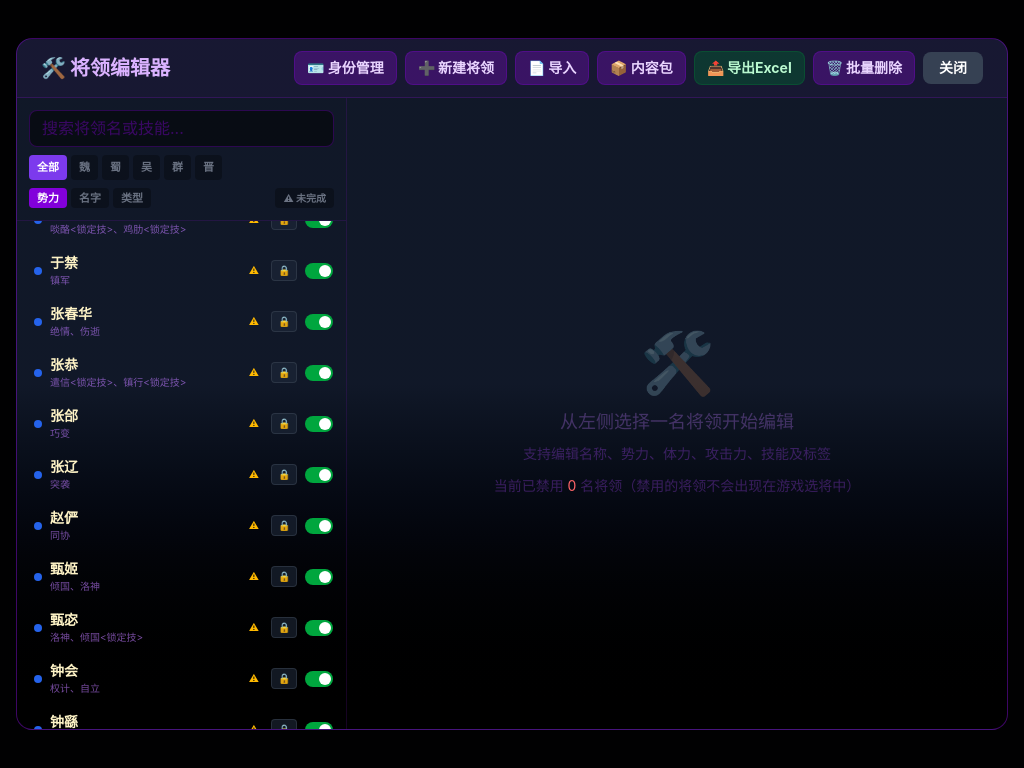
Test case: 两段式流程：① 将领身份 → 确认 → ② 技能编辑 › 点「确认将领」只换屏、一个字都不写库
(page scrolled)
Click the button "张辽 突袭 ⚠" at (146, 475), box [26,451,267,498]
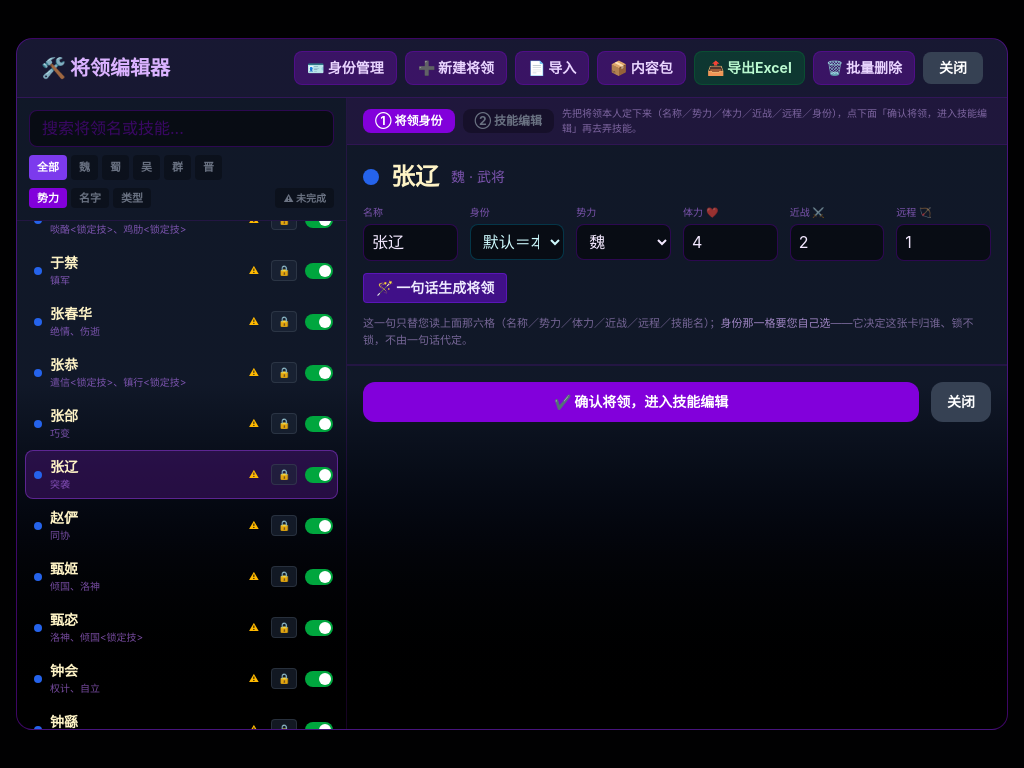
Replace the text in the 2nd field with "张辽改" at (410, 243), box [363,224,458,261]
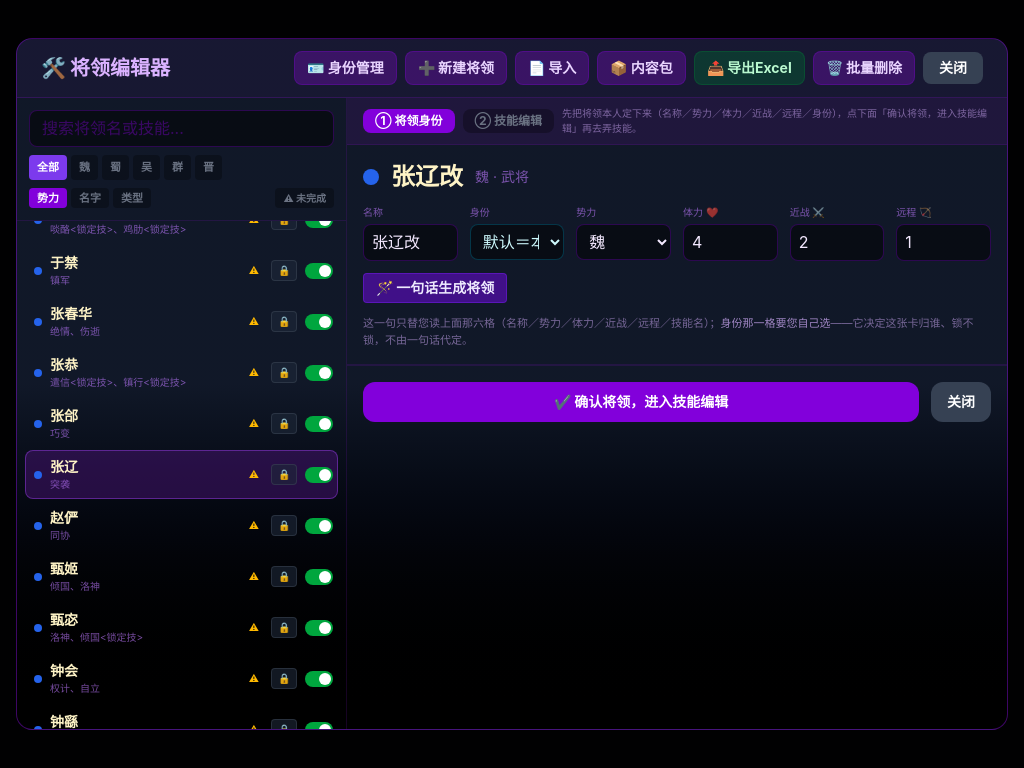
Click the button "✔ 确认将领，进入技能编辑" at (641, 402), box [363,382,919,422]
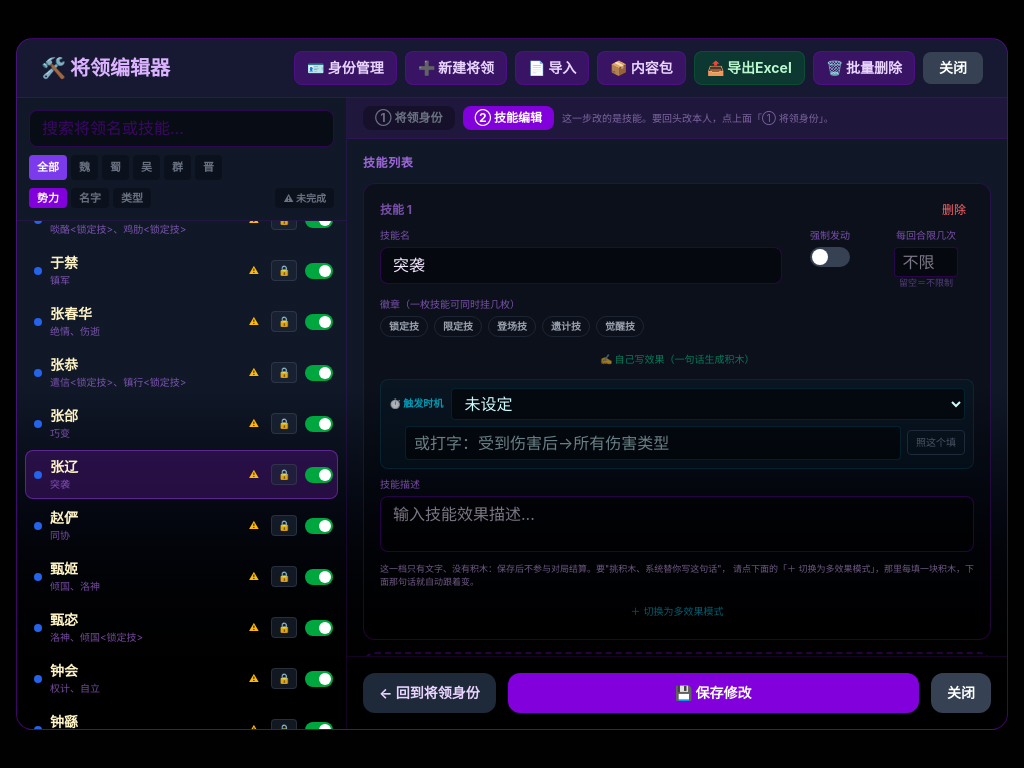
expect the heading "技能列表" is shown: met, box [363,155,413,170]
Click the button "← 回到将领身份" at (429, 693), box [363,673,496,713]
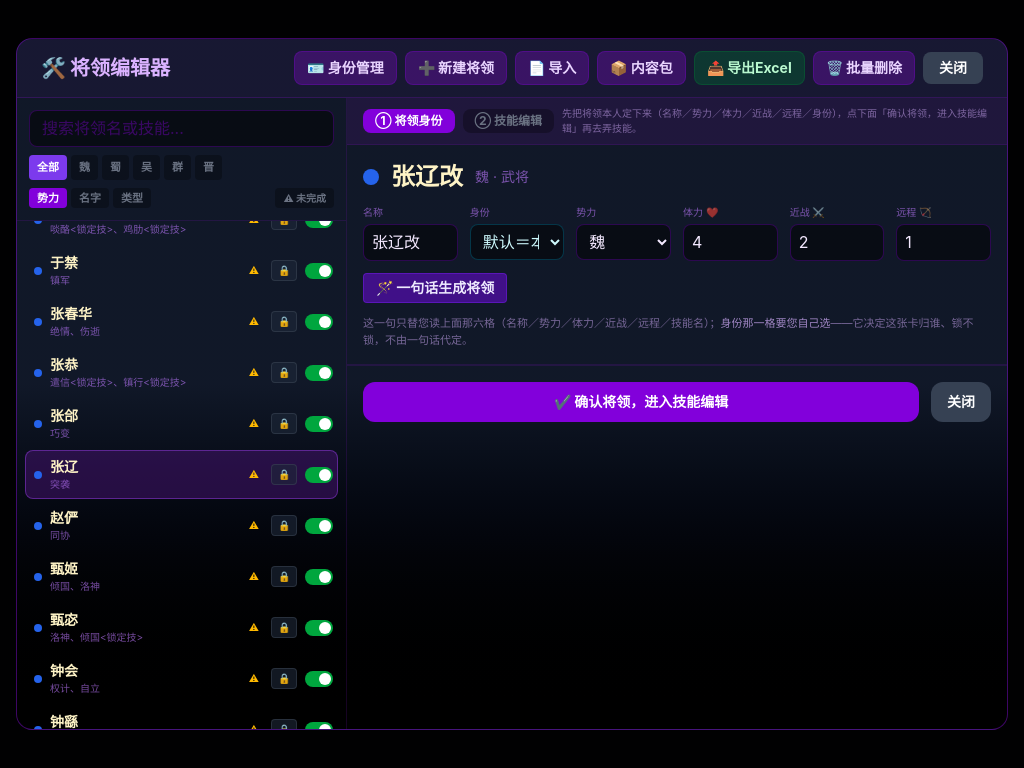
expect the heading "张辽改" is shown: met, box [391,161,463,193]
